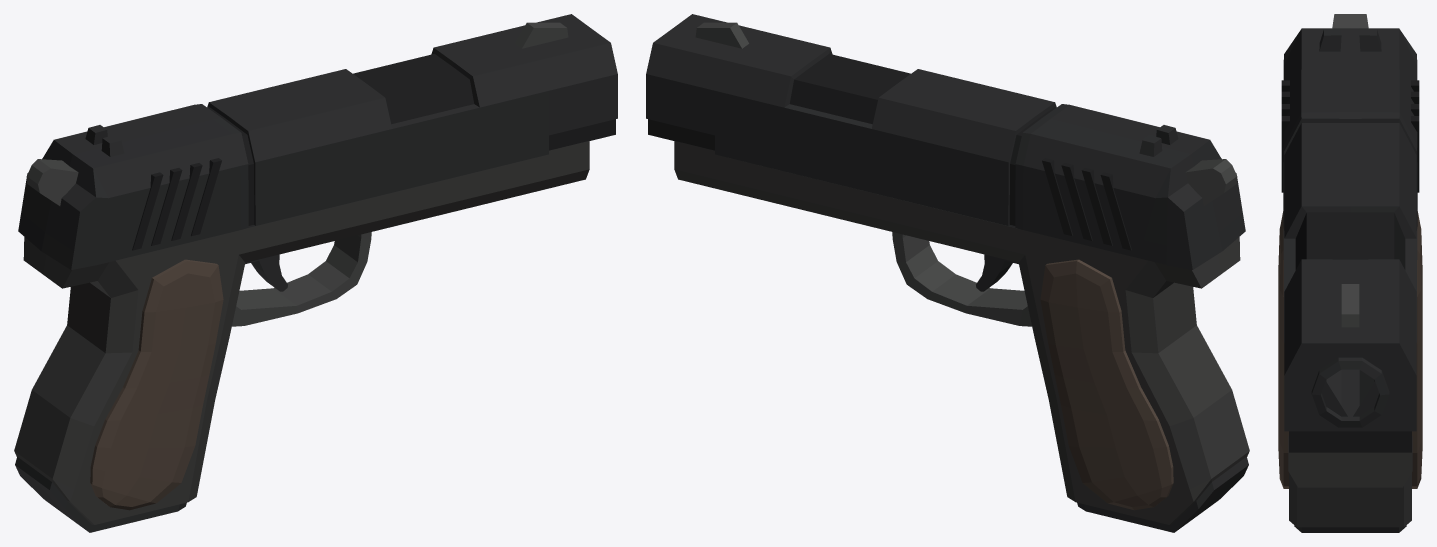
Rendered from pistol.gltf.
3 views of the same model, side by side, from view 1: azimuth 30°, elevation 25°; view 2: azimuth 150°, elevation 25°; view 3: azimuth 270°, elevation 25° (orthographic). The views are drawn at different scales.
Visible parts, largest first — view 1: pistol; view 2: pistol; view 3: pistol.
Boxes of the visible parts, x1,y1,x2,y2 form: pistol: [14, 14, 617, 532]; pistol: [646, 14, 1249, 532]; pistol: [1278, 14, 1422, 532].
Bounding box in the file's own units: 0.191 × 0.122 × 0.0339.
